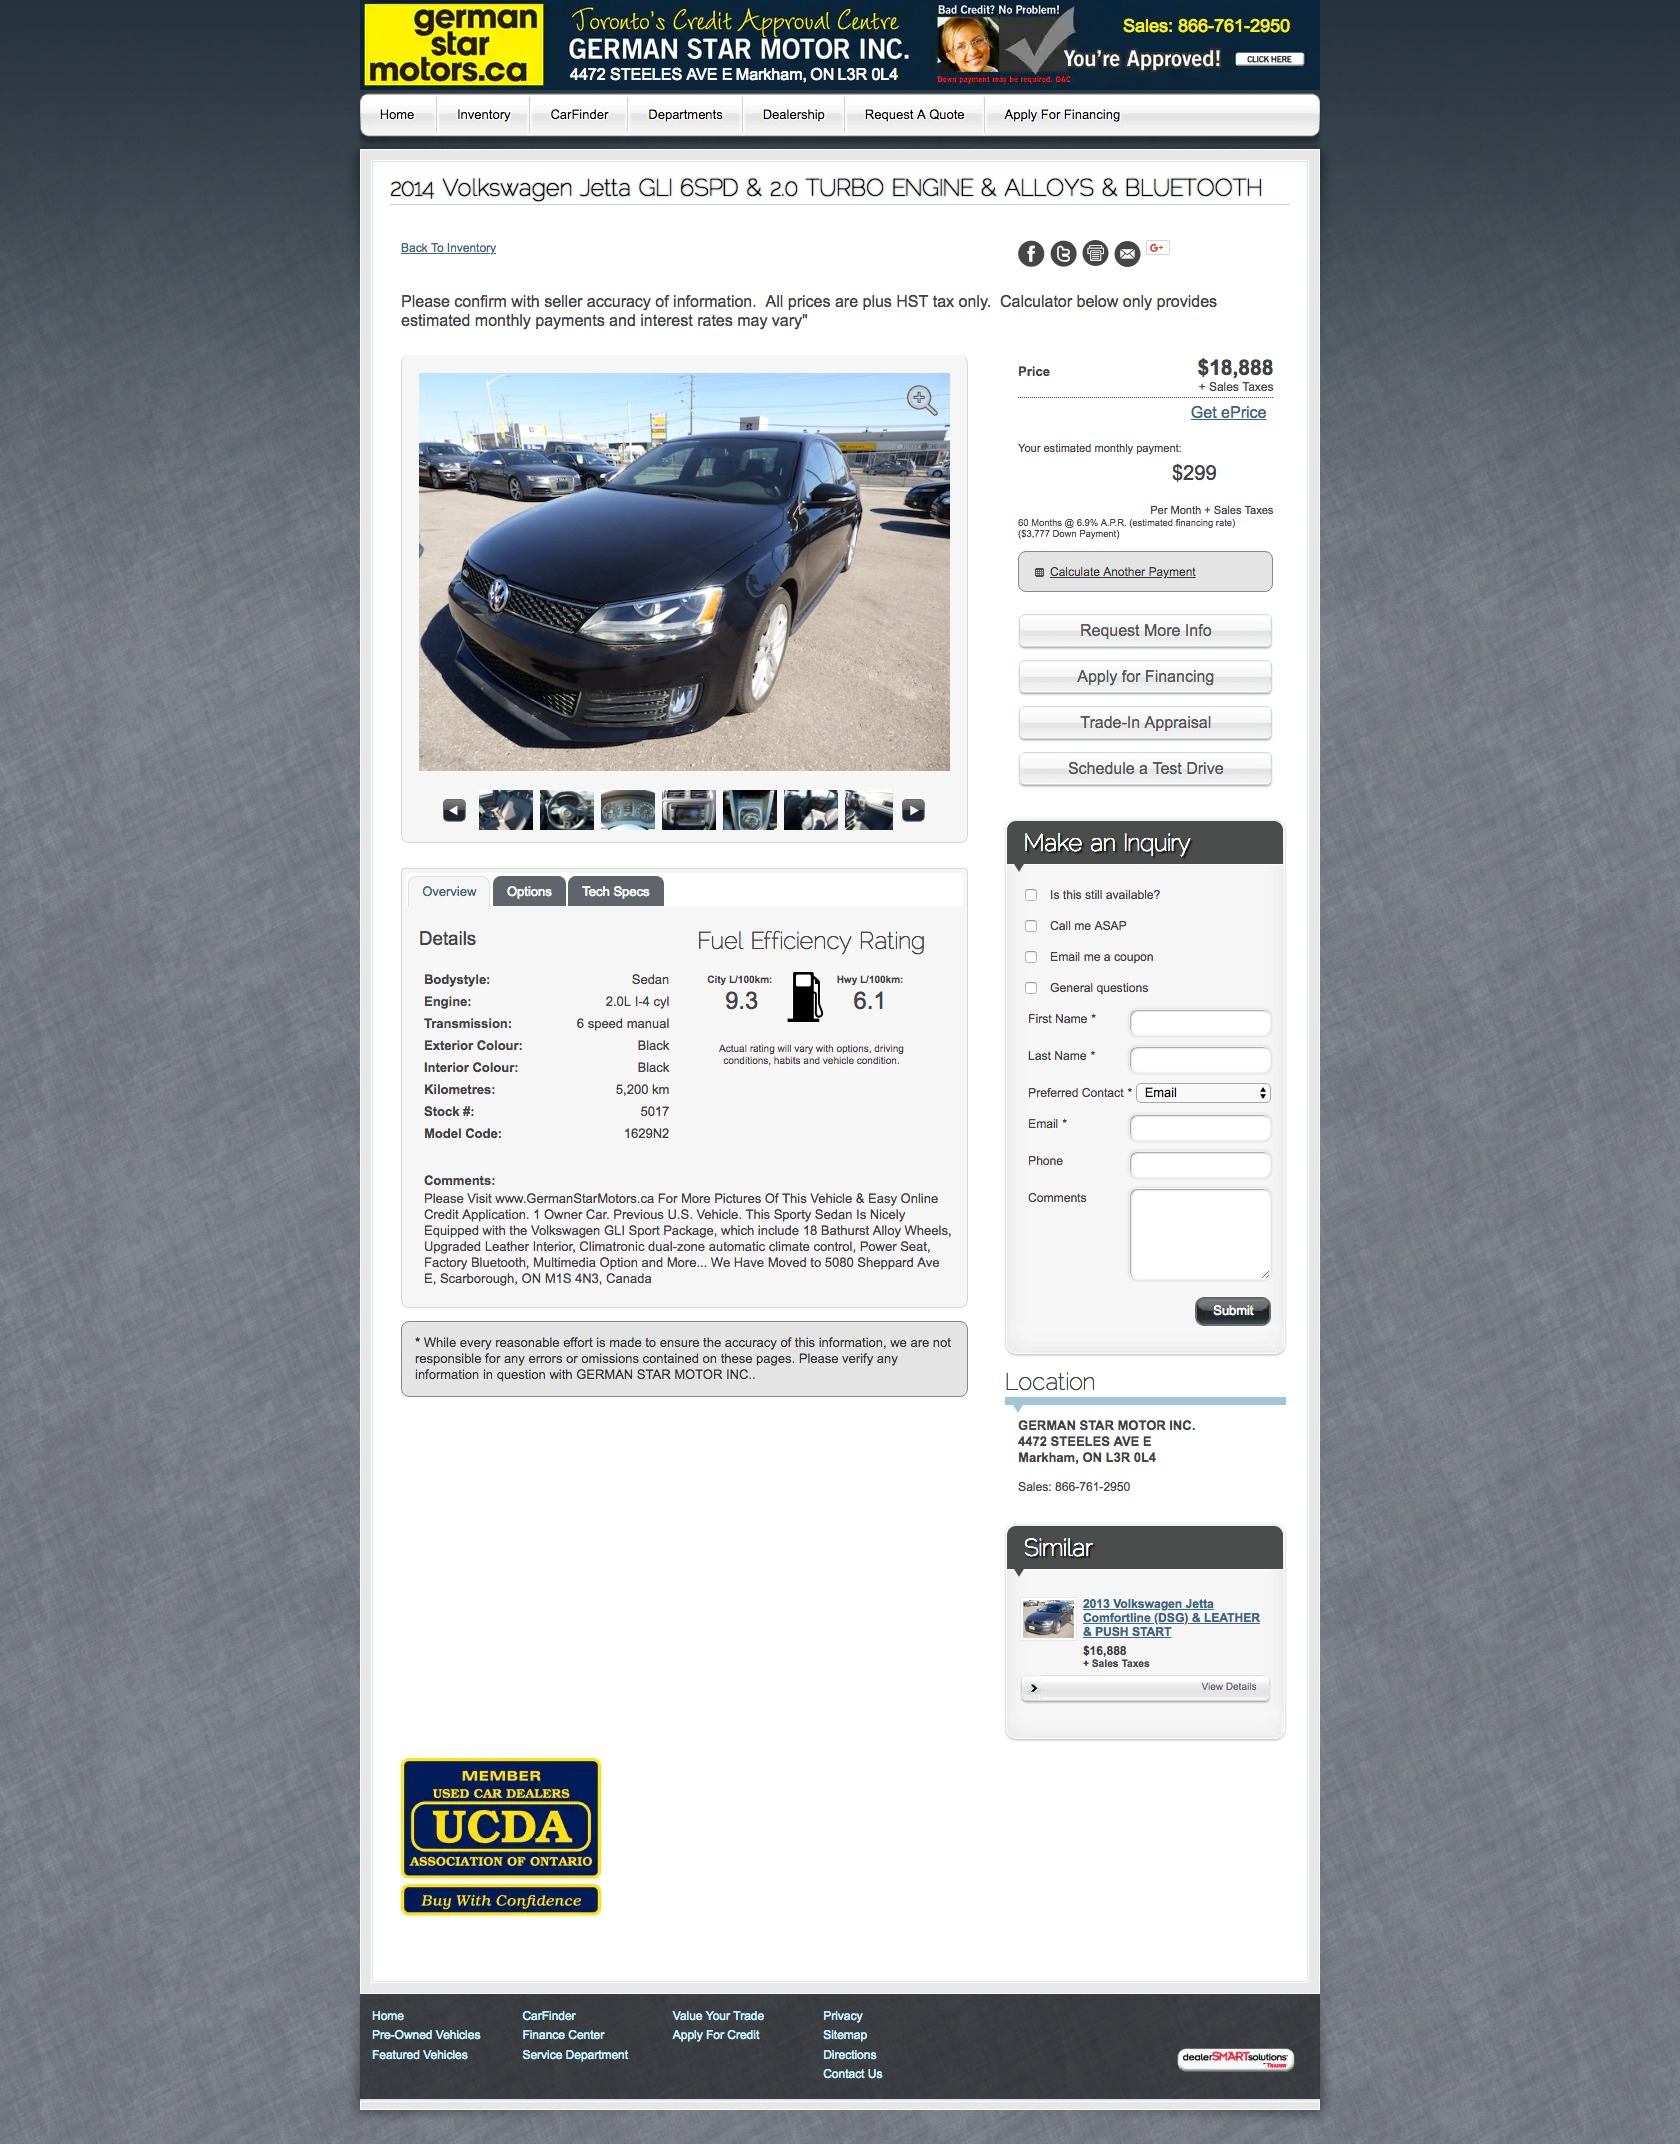car: (911, 806, 919, 816)
